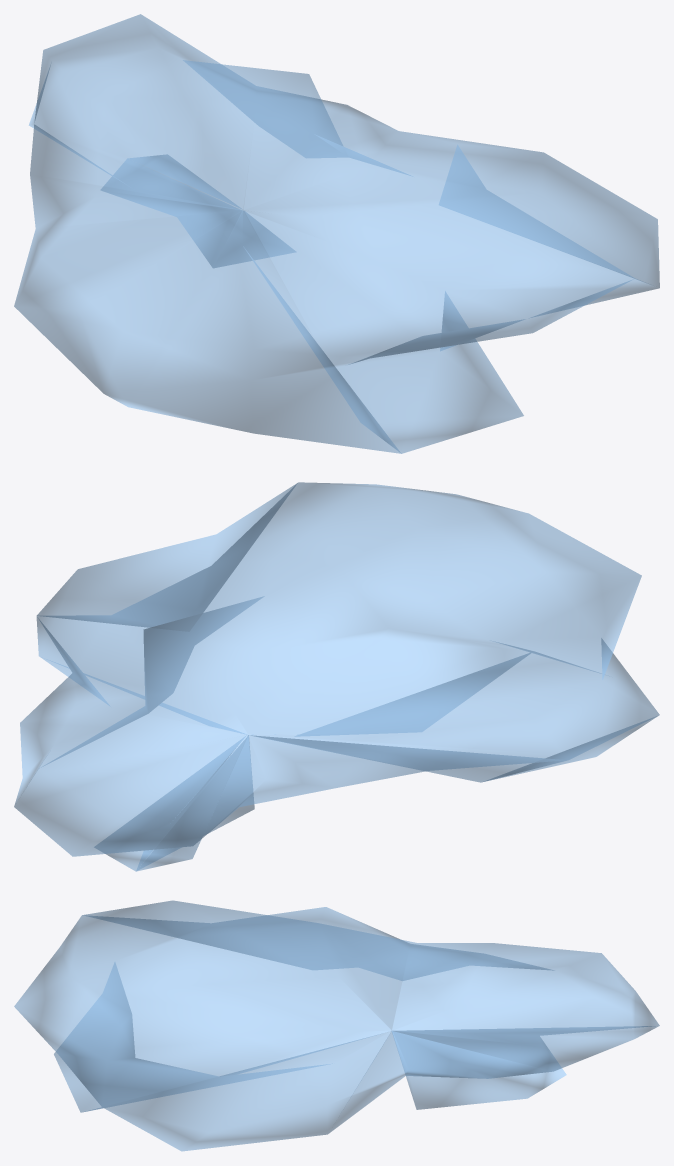
Rendered from tblackwellchrome_shield.gltf.
The picture shows the model from 3 angles, top to bottom: view 1: azimuth 30°, elevation 25°; view 2: azimuth 150°, elevation 25°; view 3: azimuth 270°, elevation 25°; orthographic projection. The views are drawn at different scales.
Parts seen in each view (by area): view 1: tblackwellchrome.shield; view 2: tblackwellchrome.shield; view 3: tblackwellchrome.shield.
Part boxes in pixels (box(x1,y1,x2,y2)): tblackwellchrome.shield: box(14, 14, 659, 453); tblackwellchrome.shield: box(14, 482, 659, 871); tblackwellchrome.shield: box(14, 900, 659, 1151).
Bounding box in the file's own units: 9.22 × 3.22 × 11.95.
